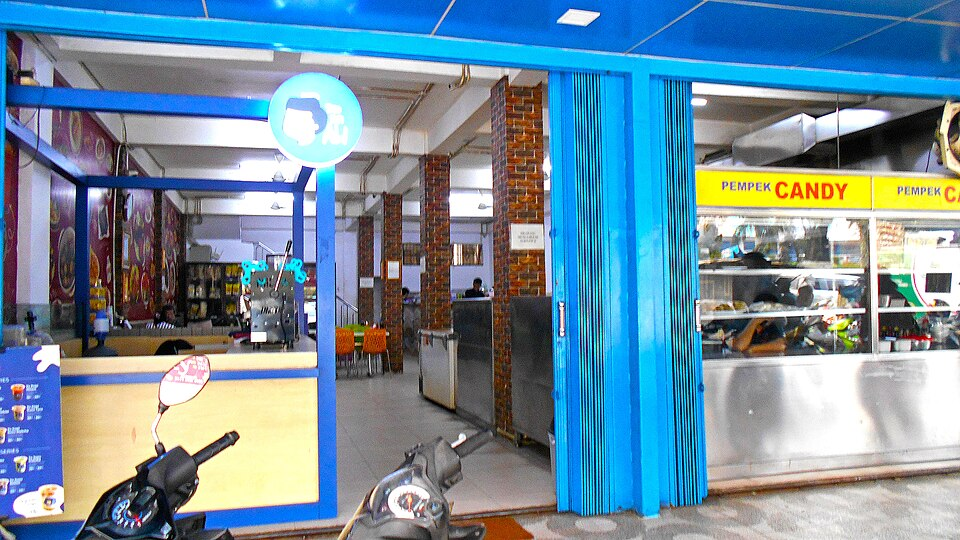Pempek: (115, 70, 845, 470)
